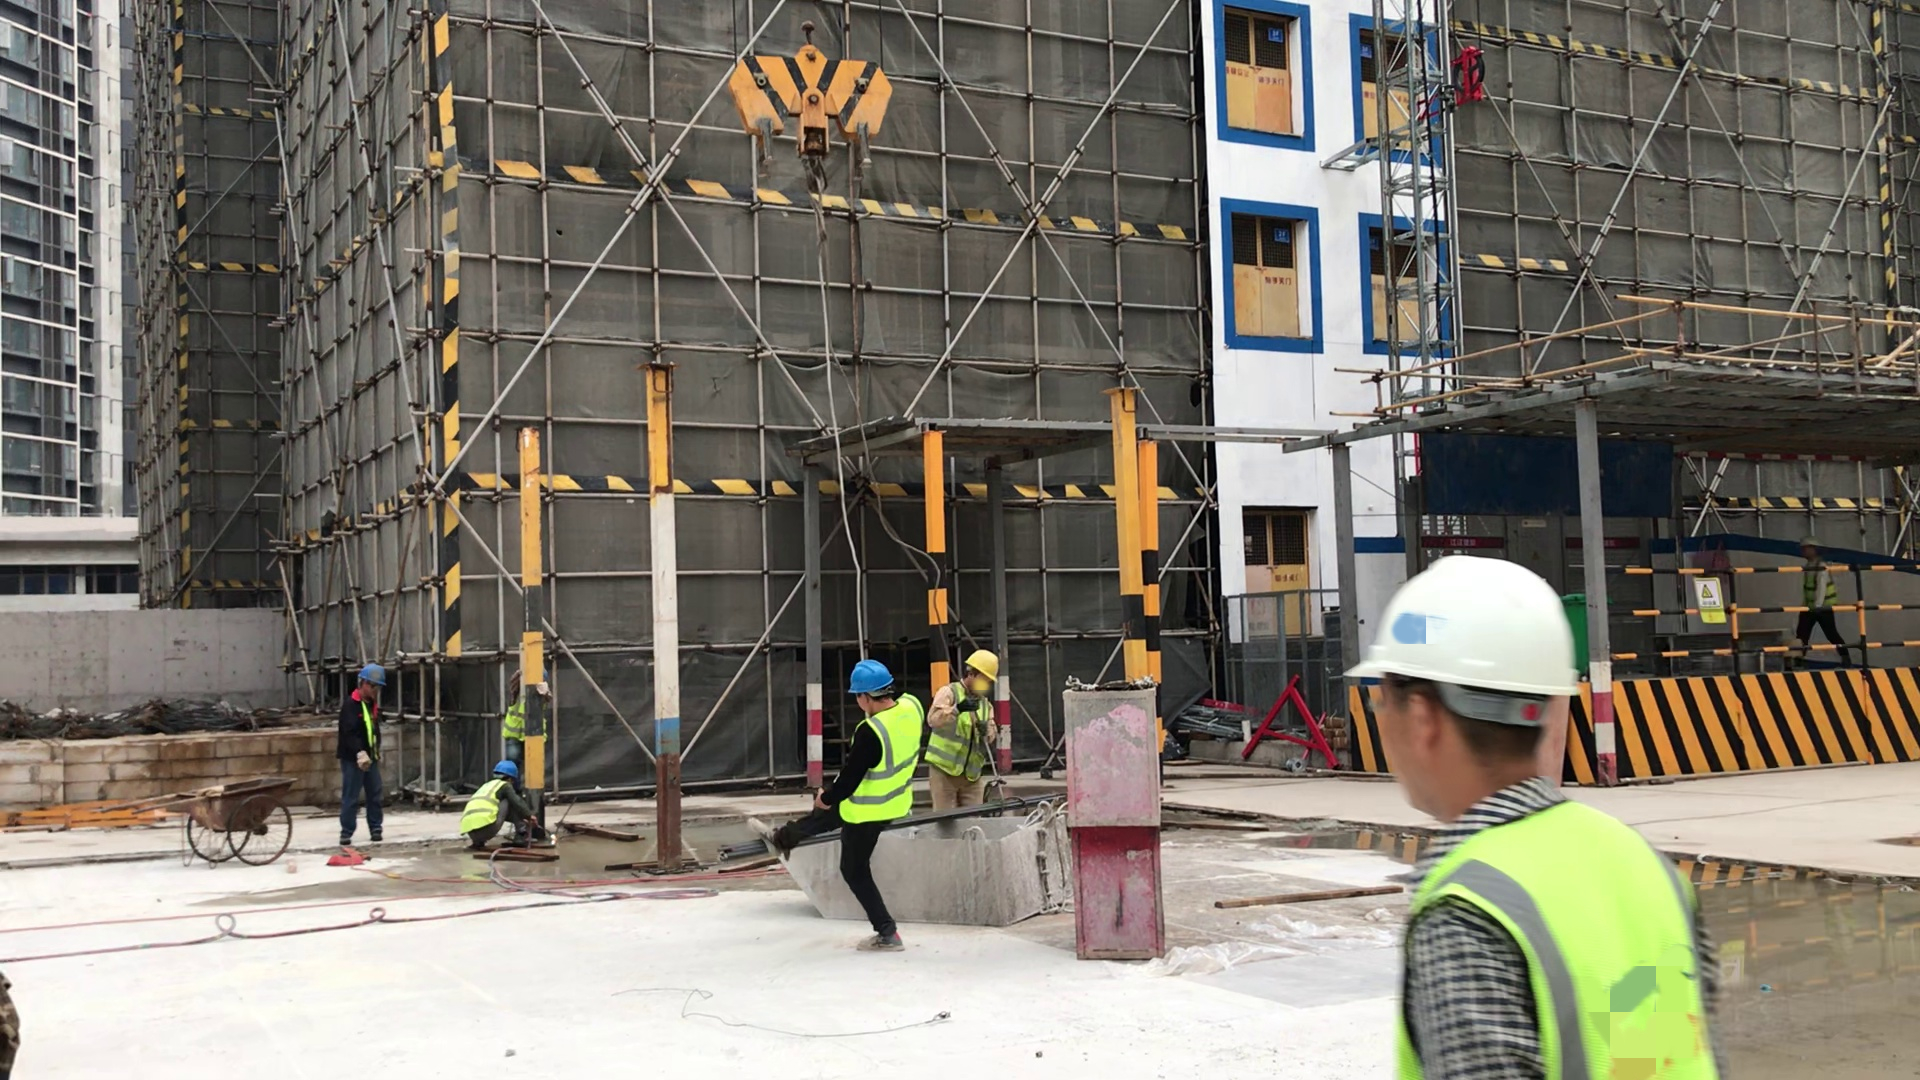fence: (1607, 557, 1920, 697)
handcart: (121, 758, 310, 880)
helmet: (1338, 547, 1611, 707), (833, 654, 898, 699), (969, 641, 1011, 687), (352, 664, 394, 692), (489, 754, 520, 780), (1800, 532, 1830, 552)
hook: (717, 16, 913, 216)
hopper: (757, 799, 1073, 937)
person: (1315, 531, 1747, 1080), (767, 639, 936, 964), (912, 618, 1029, 837), (317, 634, 406, 873), (450, 747, 558, 884), (489, 654, 586, 784), (1793, 533, 1857, 670)
rebar: (683, 826, 841, 873), (883, 805, 1049, 831)
slogan: (1673, 569, 1744, 635)
vest: (1390, 796, 1750, 1080), (840, 691, 926, 831), (924, 669, 1005, 793), (448, 780, 513, 850), (336, 696, 389, 780), (497, 674, 539, 743), (1797, 554, 1843, 611)
